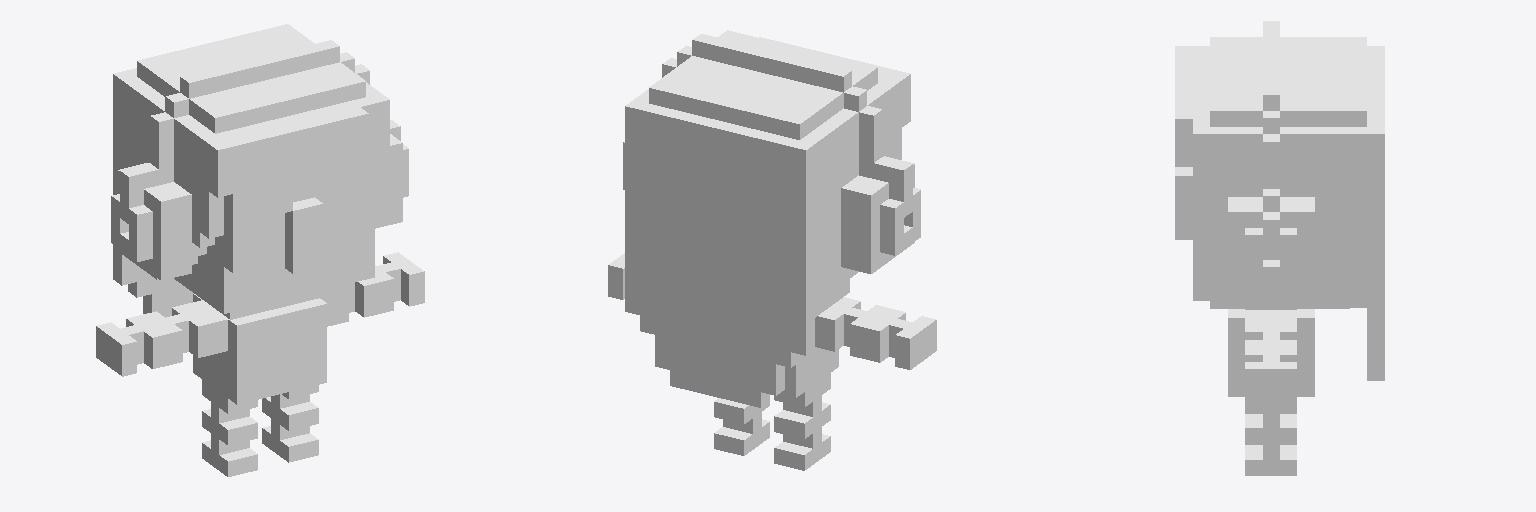
Rendered from Barbara.obj.
The picture shows the model from 3 angles: view 1: azimuth 30°, elevation 25°; view 2: azimuth 150°, elevation 25°; view 3: azimuth 270°, elevation 25°; orthographic projection.
Visible parts, largest first — view 1: object 1; view 2: object 1; view 3: object 1.
Part boxes in pixels (x1,y1,x2,y2): object 1: (96, 24, 424, 476); object 1: (608, 30, 936, 470); object 1: (1175, 21, 1384, 475).
Size of the model in its own units: 2 by 2.5 by 1.2.